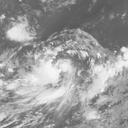cyclone: (33, 34, 96, 95)
